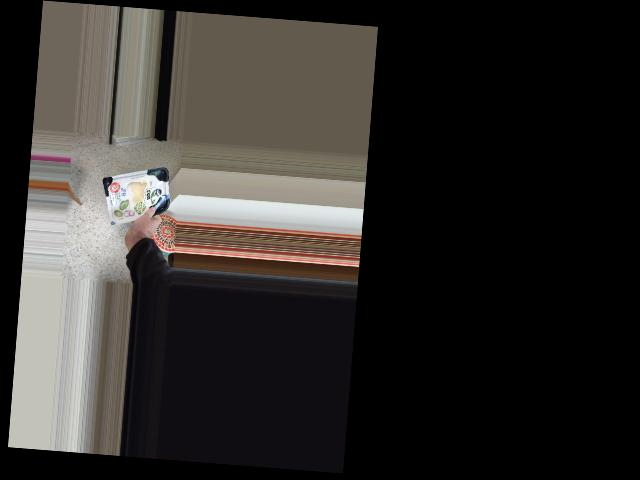cheese: (102, 162, 173, 229)
